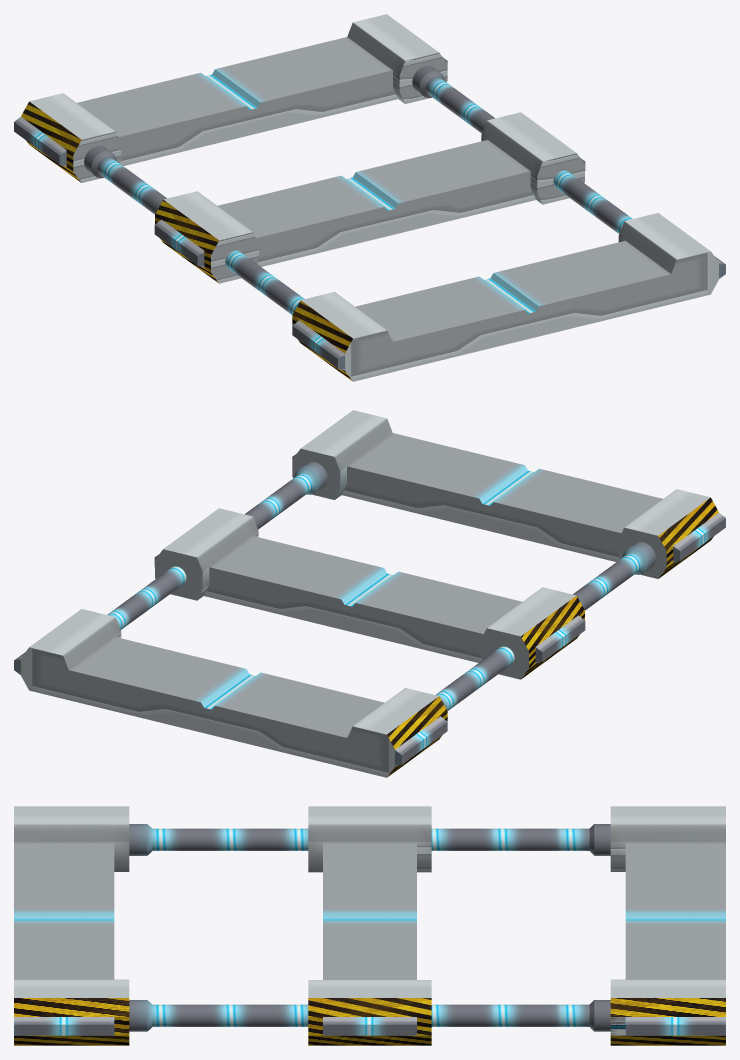
File: Tile_gap_2.fbx
3 views of the same model, one above another, from view 1: azimuth 30°, elevation 25°; view 2: azimuth 150°, elevation 25°; view 3: azimuth 270°, elevation 25° (orthographic). The views are drawn at different scales.
Parts seen in each view (by area): view 1: Tile_gap_2; view 2: Tile_gap_2; view 3: Tile_gap_2.
Part boxes in pixels (x1=…): Tile_gap_2: x1=14, y1=14, x2=725, y2=381; Tile_gap_2: x1=14, y1=410, x2=725, y2=777; Tile_gap_2: x1=14, y1=806, x2=725, y2=1045.
Size of the model in its own units: 4.15 by 0.4422 by 6.
1 material, 1 textured.
